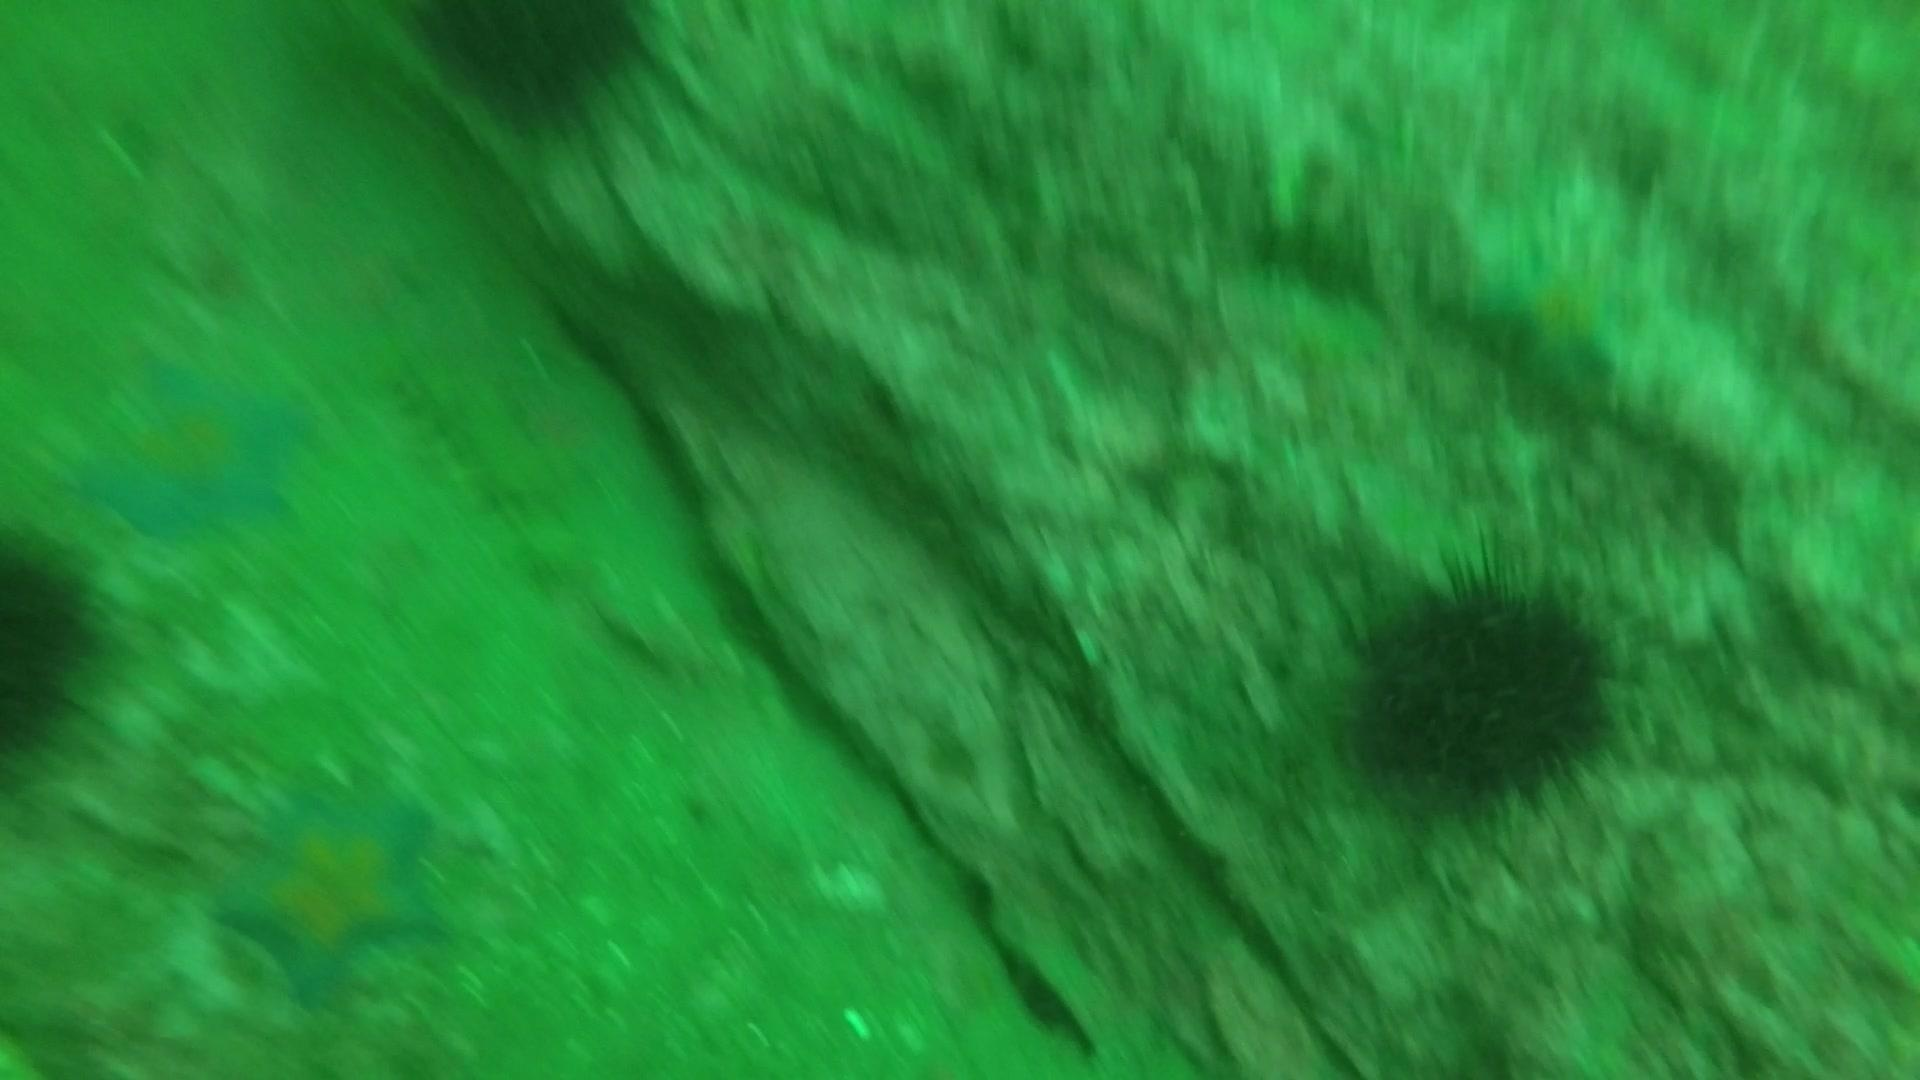echinus: (1336, 542, 1627, 822), (404, 3, 667, 133), (0, 525, 107, 771)
starfish: (206, 775, 455, 1011), (59, 348, 315, 547), (1460, 229, 1648, 406)
